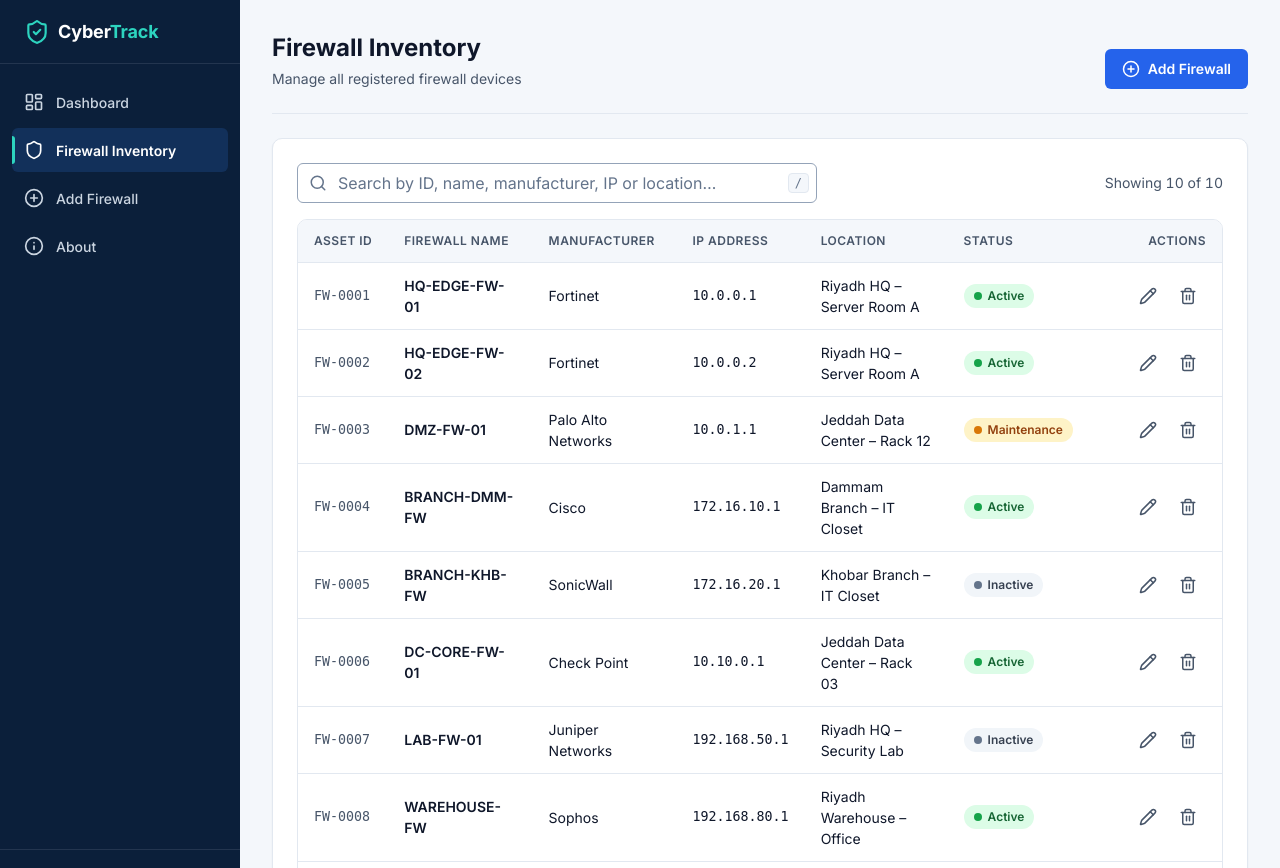
Test case: Firewall Inventory › reports an error and keeps the row when deletion fails
The image size is (1280, 868).
Click the button named "Delete DMZ-FW-01" at (1188, 430), box x1=1170 y1=412 x2=1206 y2=448
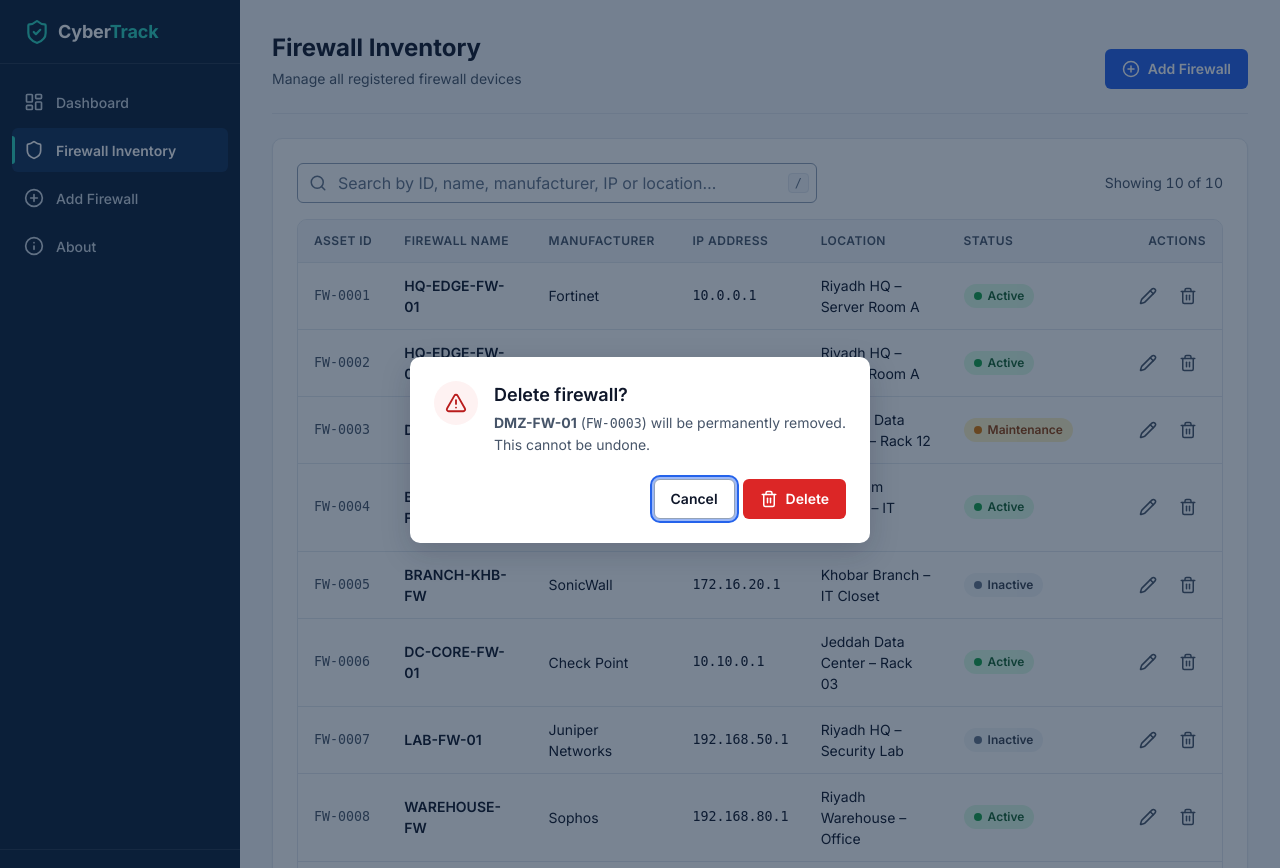
Click the button "Delete" at (794, 499), box x1=743 y1=479 x2=846 y2=519
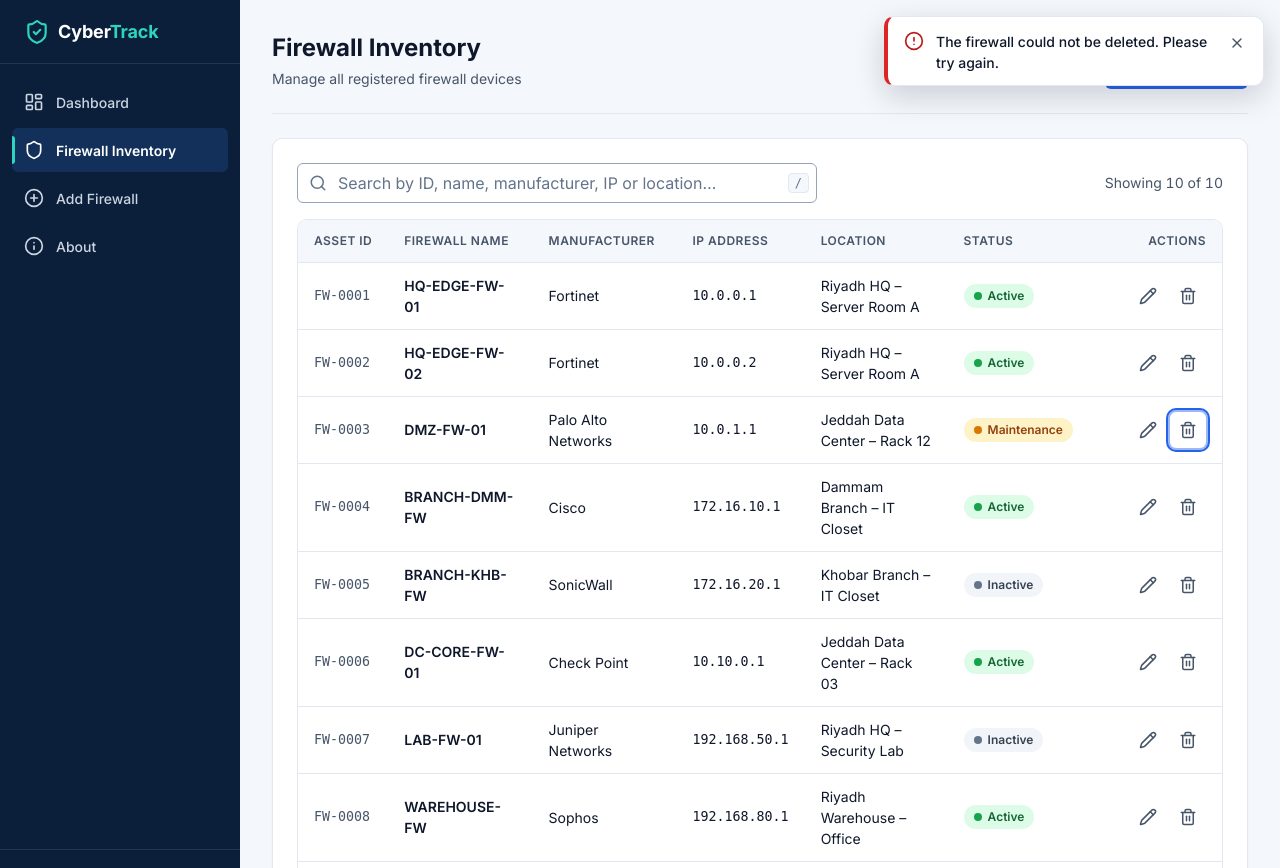
Expected: the row that starts with "FW-0003" is shown, x1=298 y1=396 x2=1222 y2=463
Now the text "The firewall could not be deleted. Please try again." is shown, box x1=936 y1=29 x2=1211 y2=73
